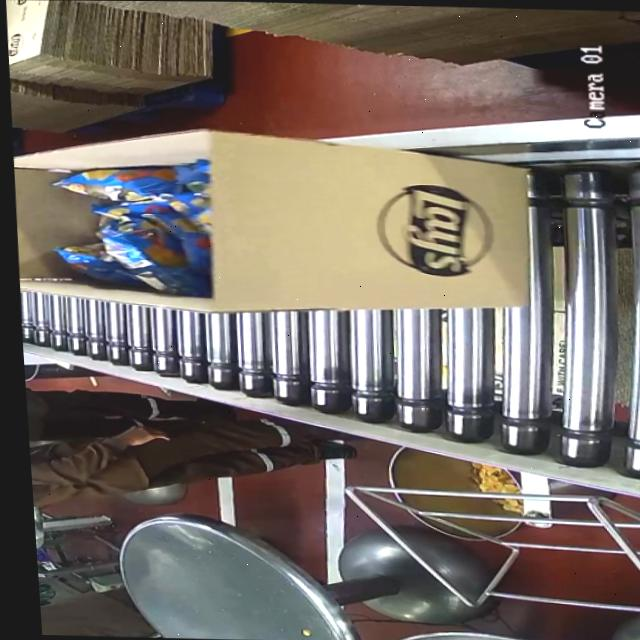PAPRIKA: (42, 153, 221, 297)
